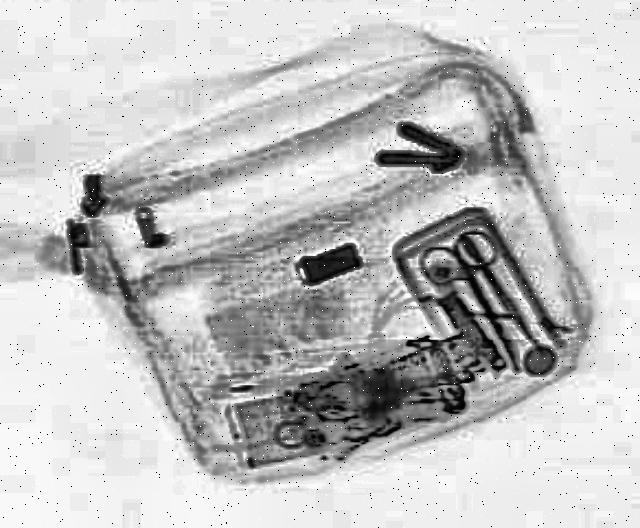Scissors: (406, 230, 560, 386)
